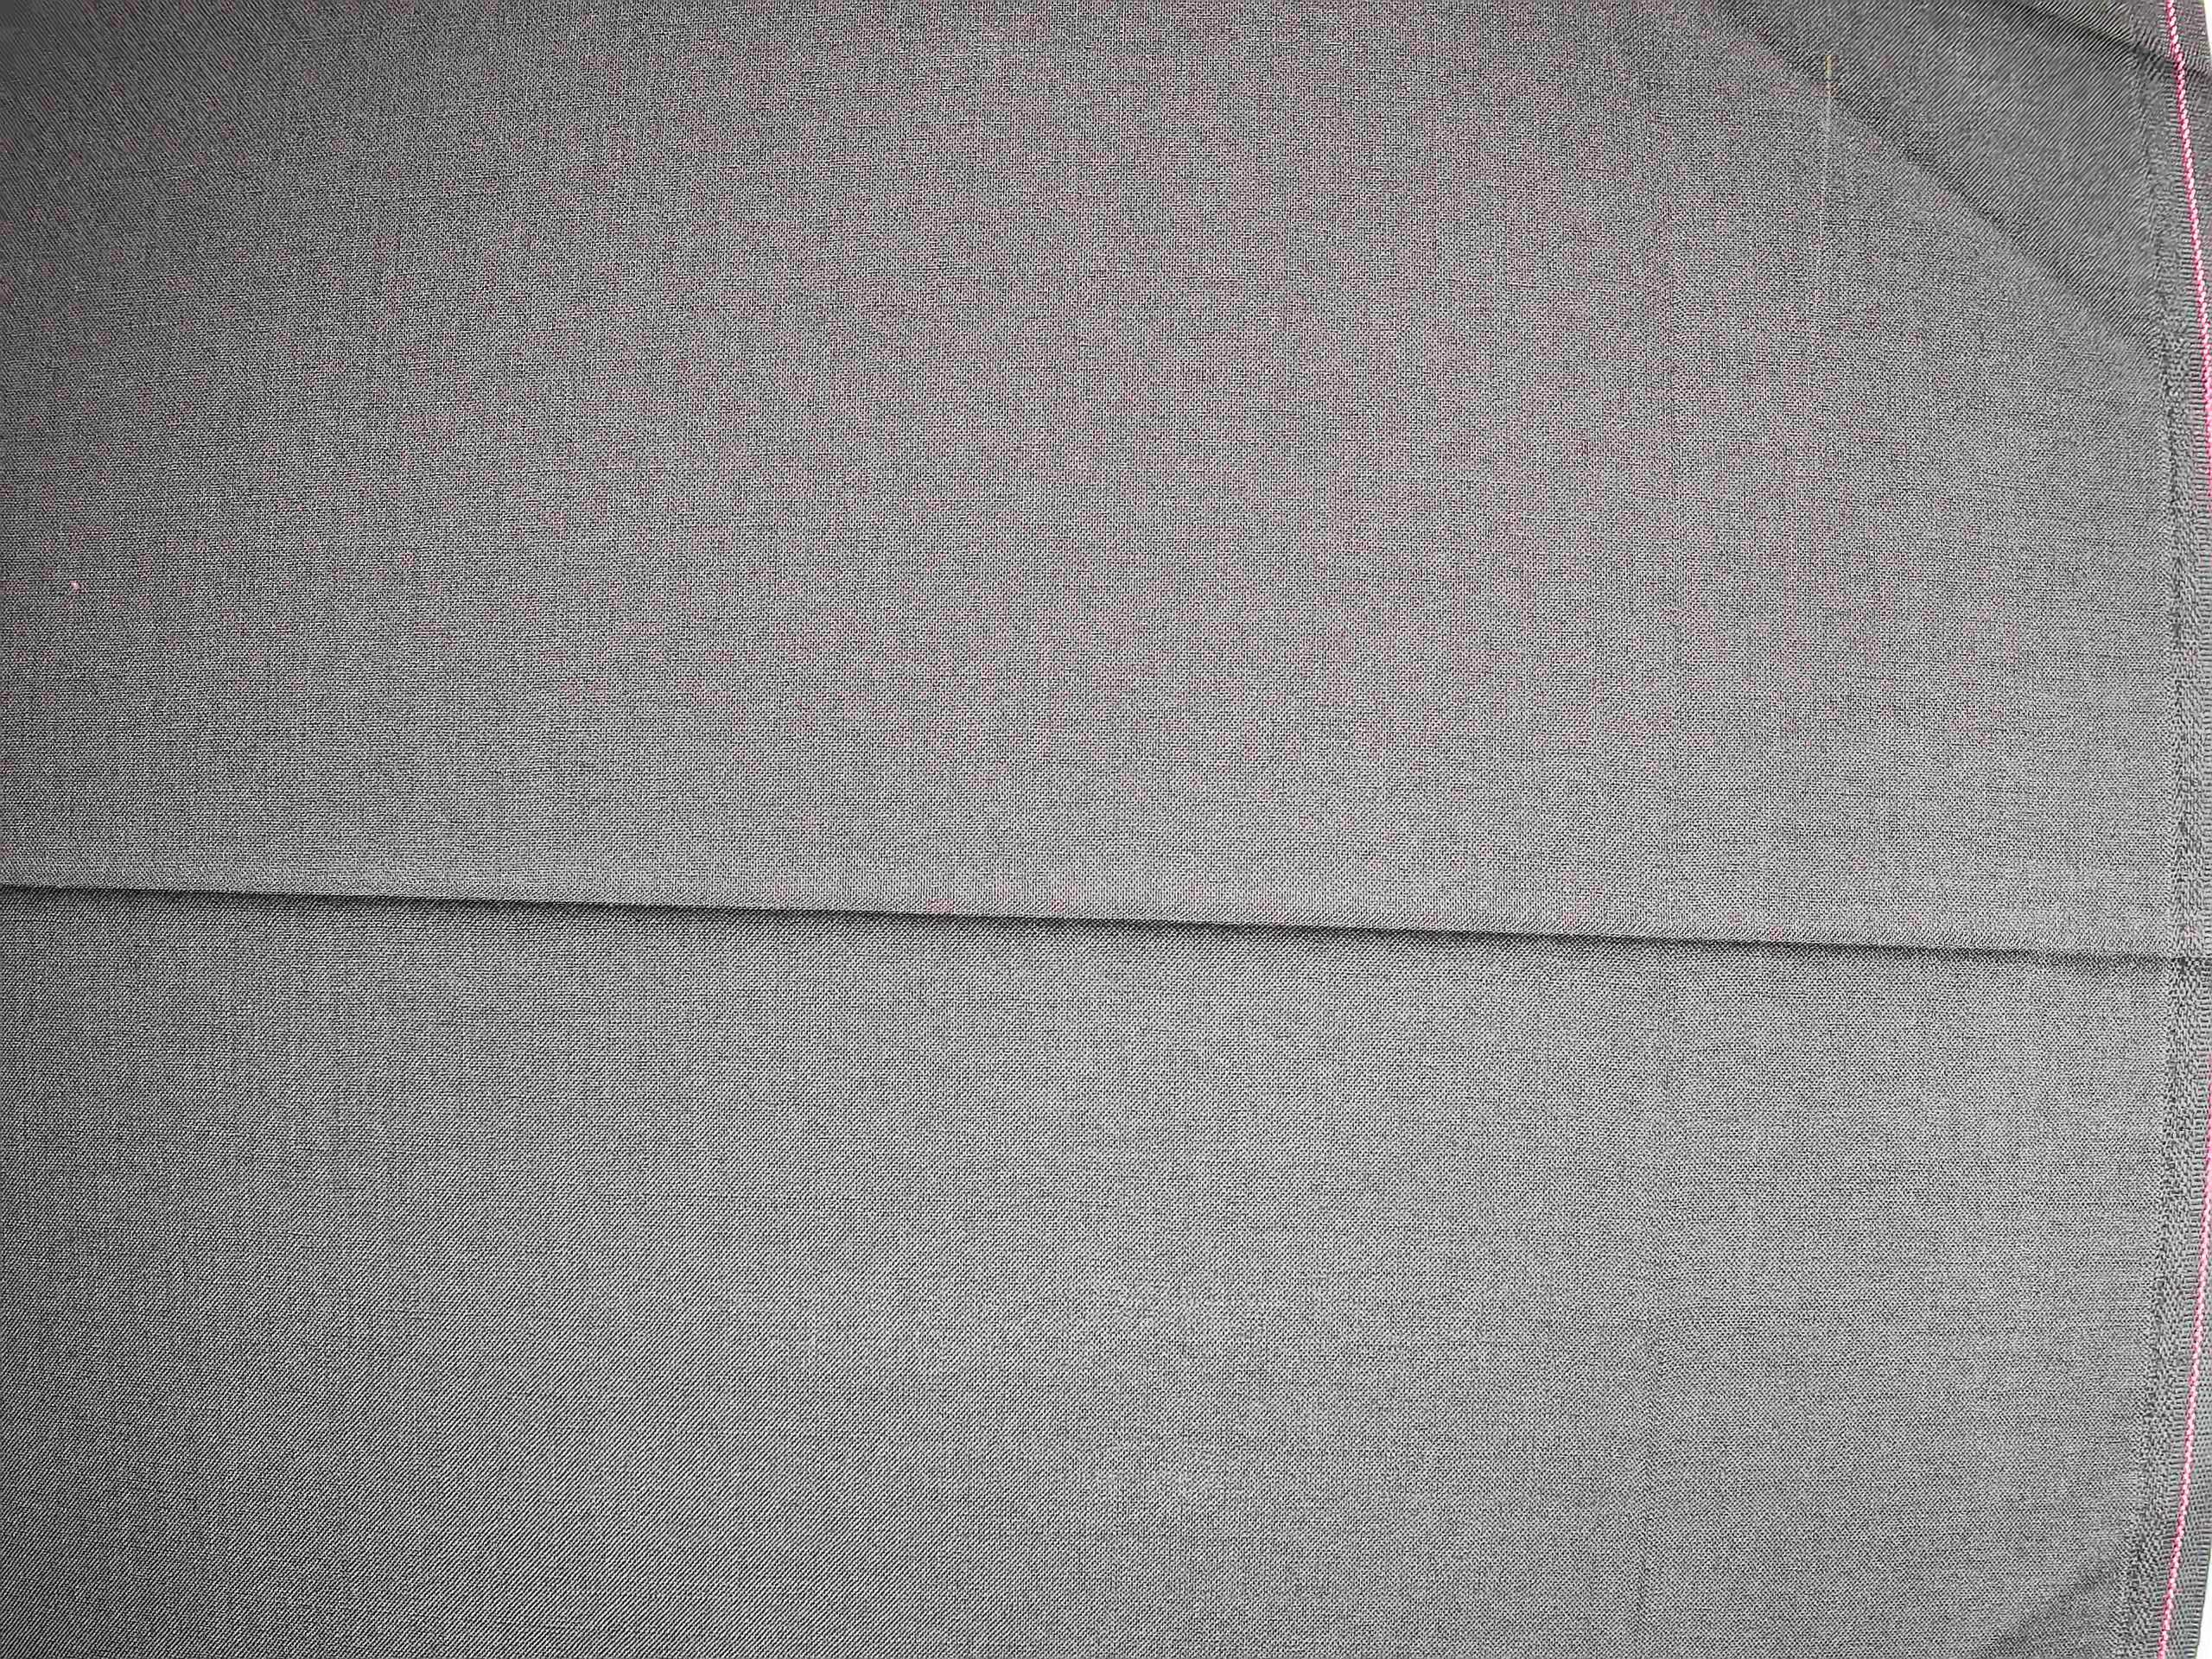hanging-warp: (1623, 12, 1698, 1628)
